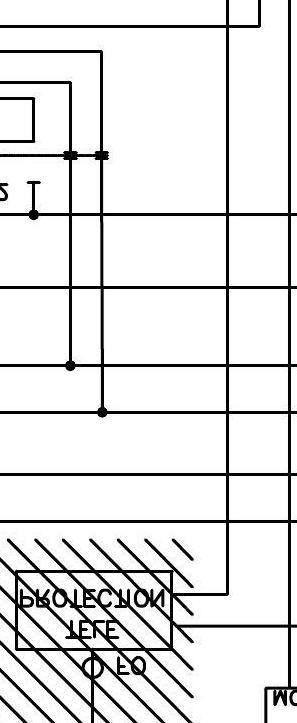tele_protection: (12, 567, 175, 653)
